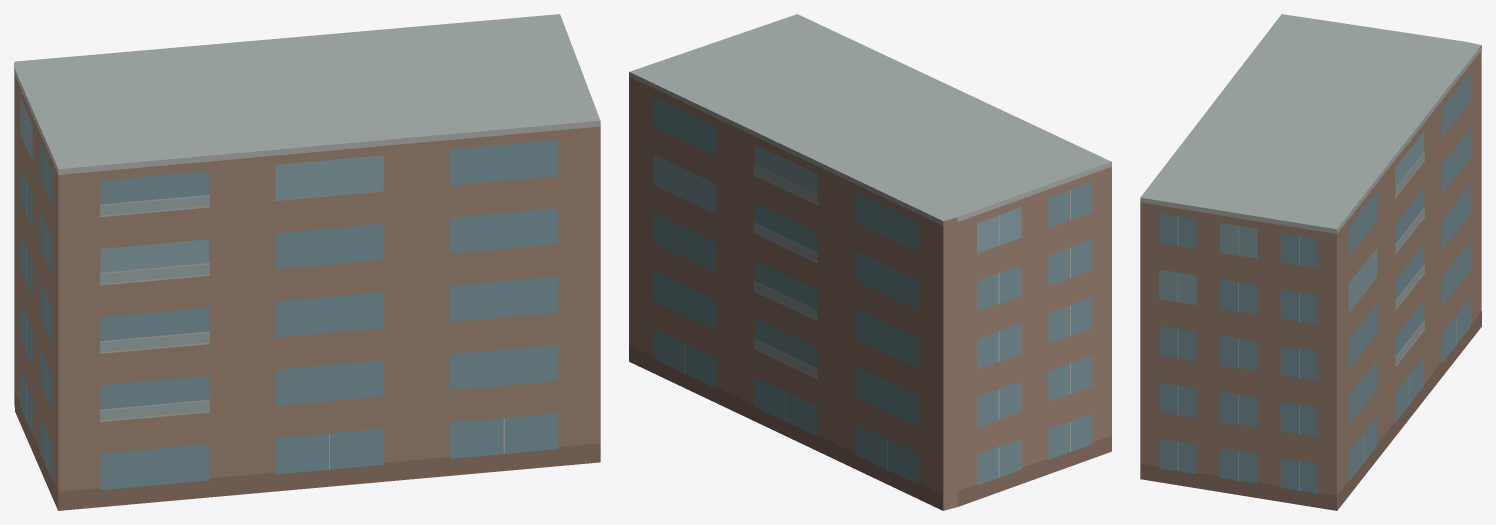
Rendered from survey-upis-32821062.glb.
3 renders of one model, left to right at view 1: azimuth 30°, elevation 25°; view 2: azimuth 150°, elevation 25°; view 3: azimuth 270°, elevation 25°, orthographic. The views are drawn at different scales.
Visible parts, largest first — view 1: survey-upis-32821062.tmp; view 2: survey-upis-32821062.tmp; view 3: survey-upis-32821062.tmp.
Boxes of the visible parts, x1,y1,x2,y2 form: survey-upis-32821062.tmp: (14,14,600,510); survey-upis-32821062.tmp: (629,14,1111,510); survey-upis-32821062.tmp: (1140,14,1481,510).
Size of the model in its own units: 23.54 by 14.35 by 15.78.
